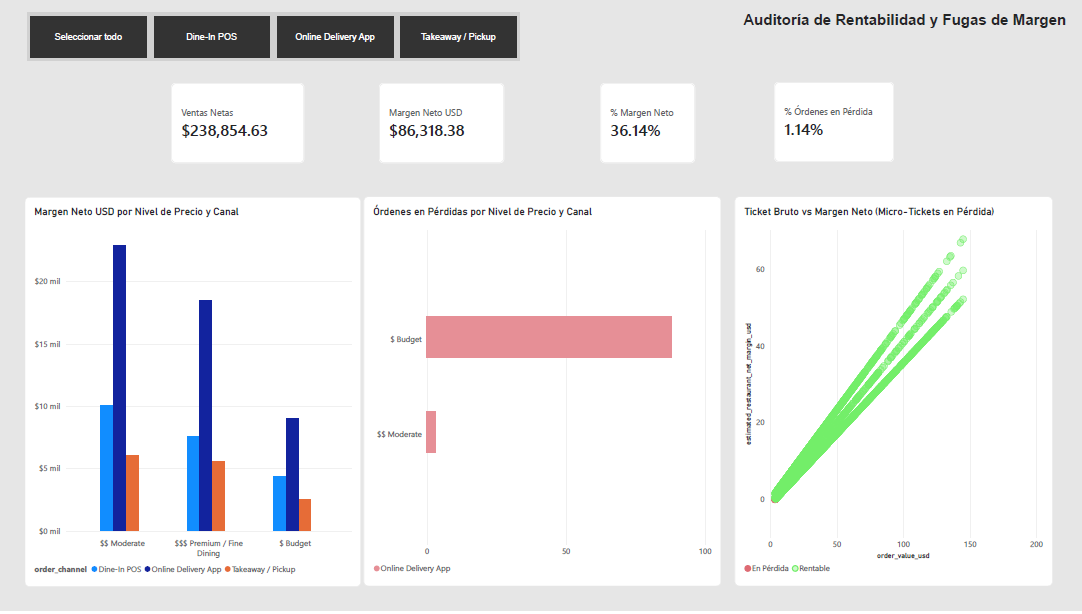

What the dashboard file says about the page in this screenshot:
{"tool":"powerbi","page":{"name":"1. Salud Financiera","canvas":[1920,1080],"ordinal":0},"visuals":[{"type":"textbox","box":[1206.7,20,680.8,39.4],"z":0},{"type":"cardVisual","fields":{"Data":["_Medidas_Negocio.Ventas Netas"]},"box":[302,146,235.6,142.2],"z":1000},{"type":"cardVisual","fields":{"Data":["_Medidas_Negocio.Margen Neto USD"]},"box":[670,146,222.2,142.2],"z":2000},{"type":"cardVisual","fields":{"Data":["_Medidas_Negocio.% Margen Neto"]},"box":[1062,146,168.3,141.7],"z":3000},{"type":"cardVisual","fields":{"Data":["_Medidas_Negocio.% Órdenes en Pérdida"]},"box":[1370,144,211.7,141.7],"z":4000},{"type":"slicer","fields":{"Values":["delivery_clean_powerbi.order_channel"]},"box":[25.7,20,912,88],"z":5000},{"type":"clusteredColumnChart","title":"Margen Neto USD por Nivel de Precio y Canal","fields":{"Category":["delivery_clean_powerbi.restaurant_price_tier"],"Series":["delivery_clean_powerbi.order_channel"],"Y":["_Medidas_Negocio.Margen Neto USD"]},"box":[42.5,347.5,595,690],"z":6000},{"type":"barChart","title":"Órdenes en Pérdidas por Nivel de Precio y Canal","fields":{"Category":["delivery_clean_powerbi.restaurant_price_tier"],"Series":["delivery_clean_powerbi.order_channel"],"Y":["_Medidas_Negocio.Órdenes en Pérdida"]},"box":[642.9,346.9,632.7,689.8],"z":7000},{"type":"scatterChart","box":[2377.1,214.3,152,403],"z":8000},{"type":"scatterChart","title":"Ticket Bruto vs Margen Neto (Micro-Tickets en Pérdida)","fields":{"Series":["delivery_clean_powerbi.is_profitable"],"X":["delivery_clean_powerbi.order_value_usd"],"Y":["delivery_clean_powerbi.estimated_restaurant_net_margin_usd"]},"box":[1300,346.9,562.5,690],"z":9000}]}

Visuals, with their boxes in screenshot pixels (x1, y1, x2, y2), scaled from the page's 1920x1080 canvas onto the 1082x614 screenshot:
textbox: region(680, 11, 1064, 34)
cardVisual - _Medidas_Negocio.Ventas Netas: region(170, 83, 303, 164)
cardVisual - _Medidas_Negocio.Margen Neto USD: region(378, 83, 503, 164)
cardVisual - _Medidas_Negocio.% Margen Neto: region(598, 83, 693, 164)
cardVisual - _Medidas_Negocio.% Órdenes en Pérdida: region(772, 82, 891, 162)
slicer - delivery_clean_powerbi.order_channel: region(14, 11, 528, 61)
"Margen Neto USD por Nivel de Precio y Canal" clusteredColumnChart: region(24, 198, 359, 590)
"Órdenes en Pérdidas por Nivel de Precio y Canal" barChart: region(362, 197, 719, 589)
"Ticket Bruto vs Margen Neto (Micro-Tickets en Pérdida)" scatterChart: region(733, 197, 1050, 589)
